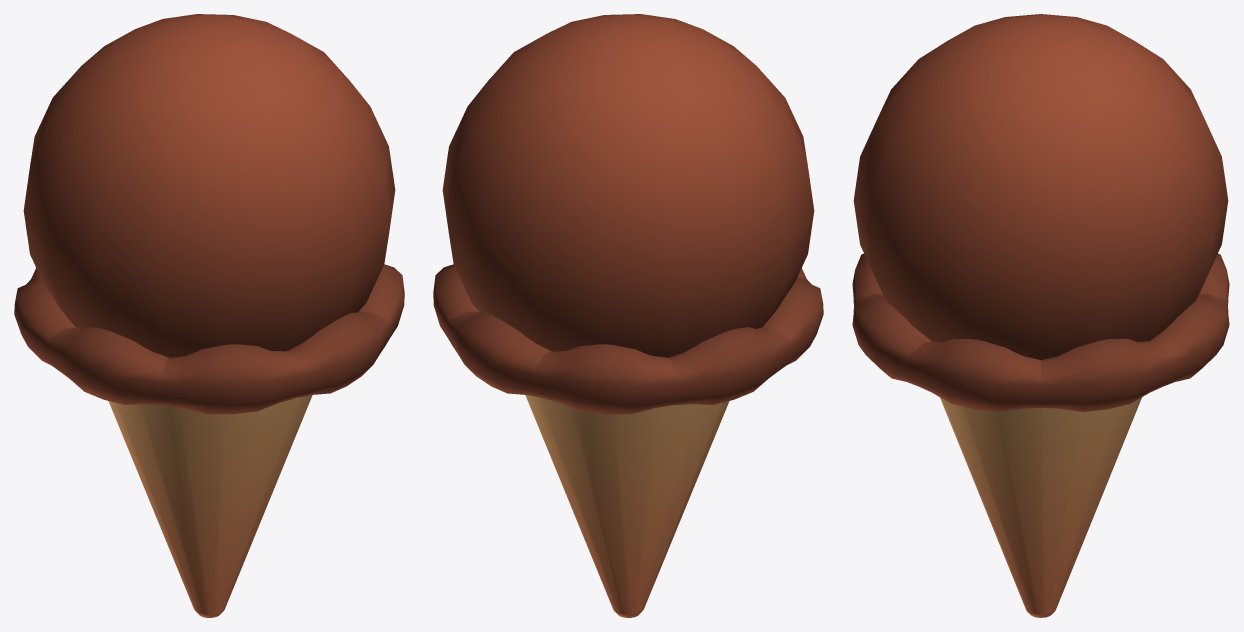
Rendered from Icecream_V1_02.fbx.
The picture shows the model from 3 angles, left to right: view 1: azimuth 30°, elevation 25°; view 2: azimuth 150°, elevation 25°; view 3: azimuth 270°, elevation 25°; orthographic projection.
Visible parts, largest first — view 1: Icecream_V1_02; view 2: Icecream_V1_02; view 3: Icecream_V1_02.
Part boxes in pixels (box(x1,y1,x2,y2)): Icecream_V1_02: box(14, 14, 404, 617); Icecream_V1_02: box(433, 14, 823, 617); Icecream_V1_02: box(852, 14, 1229, 617).
Bounding box in the file's own units: 31.28 × 53.47 × 31.28.
